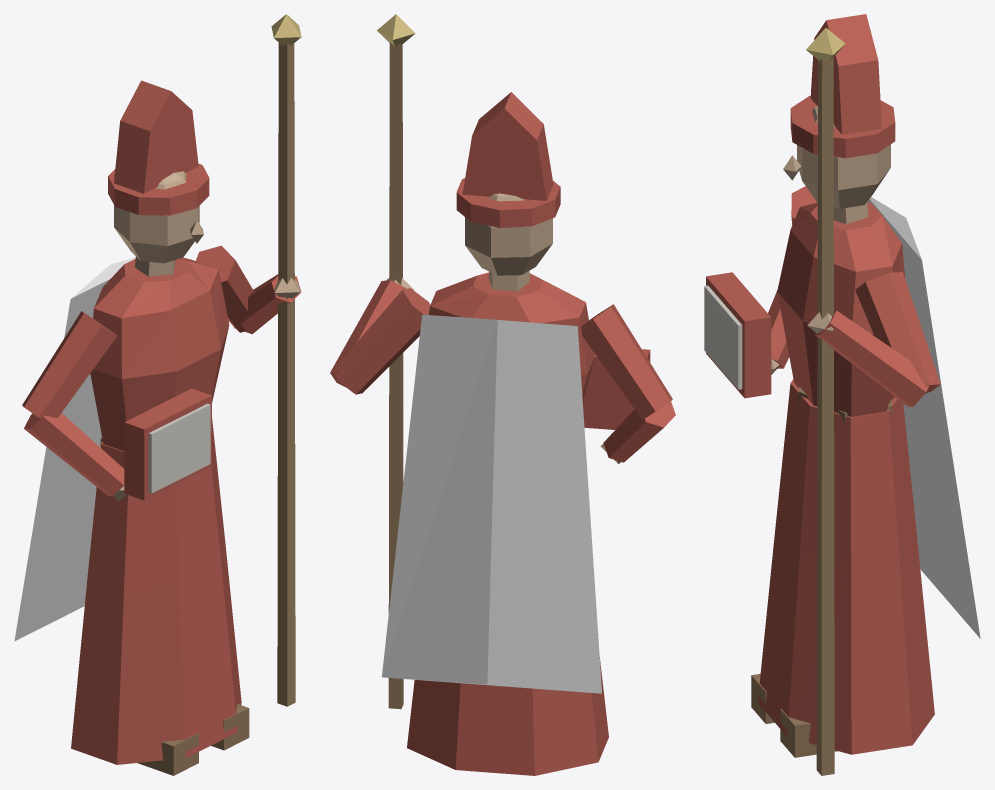
Rendered from inquisitor.glb.
The picture shows the model from 3 angles, left to right: view 1: azimuth 30°, elevation 25°; view 2: azimuth 150°, elevation 25°; view 3: azimuth 270°, elevation 25°; orthographic projection. The views are drawn at different scales.
Visible parts, largest first — view 1: LOD0; view 2: LOD0; view 3: LOD0.
Boxes of the visible parts, <box> form: LOD0: <box>14,14,301,775</box>; LOD0: <box>330,14,675,775</box>; LOD0: <box>704,14,980,775</box>.
Size of what is drawn, in the model's own units: 0.5063 by 1.18 by 0.3902.
